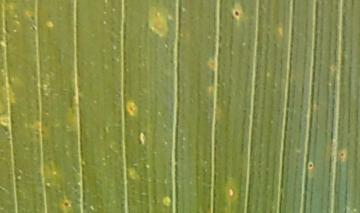tarspot: (127, 98, 137, 117), (232, 8, 242, 21), (207, 59, 218, 70), (305, 160, 315, 170), (62, 200, 71, 209), (338, 151, 347, 159)
